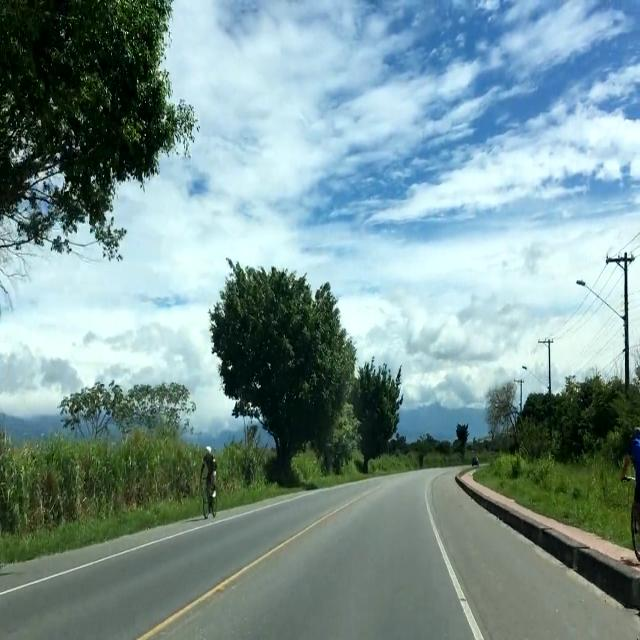lane: (135, 497, 360, 640), (0, 527, 201, 596), (425, 487, 485, 640)
road: (0, 467, 640, 639)
